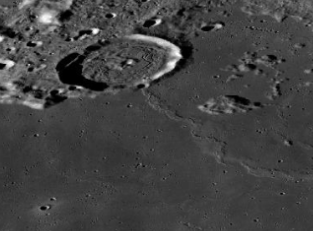crater: (43, 10, 197, 131)
